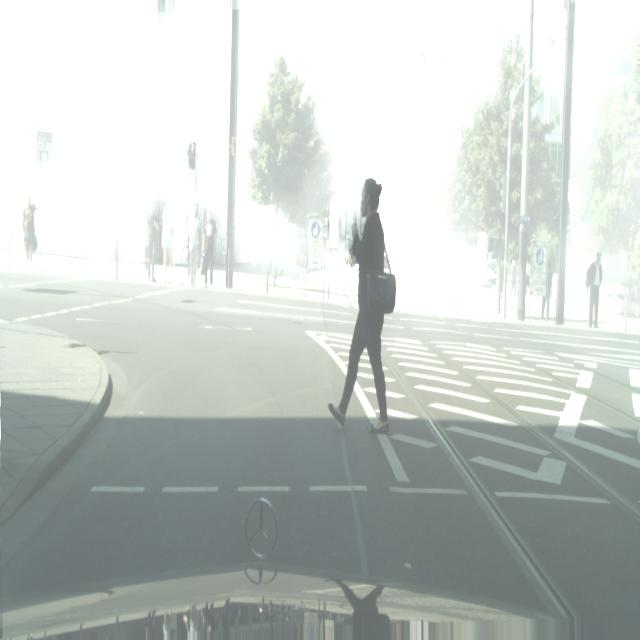car: (258, 247, 294, 288)
motorcycle: (439, 242, 498, 289)
person: (335, 178, 397, 434), (22, 191, 45, 276), (184, 204, 202, 288), (585, 248, 602, 328), (201, 206, 217, 288), (161, 198, 176, 284), (145, 201, 159, 282), (510, 259, 518, 297)
